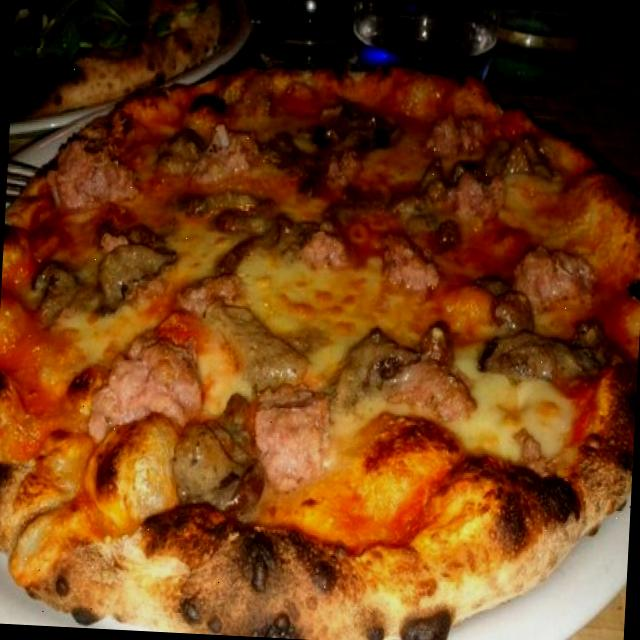basil: (14, 0, 141, 53)
pizza: (0, 69, 640, 640), (10, 0, 225, 120)
